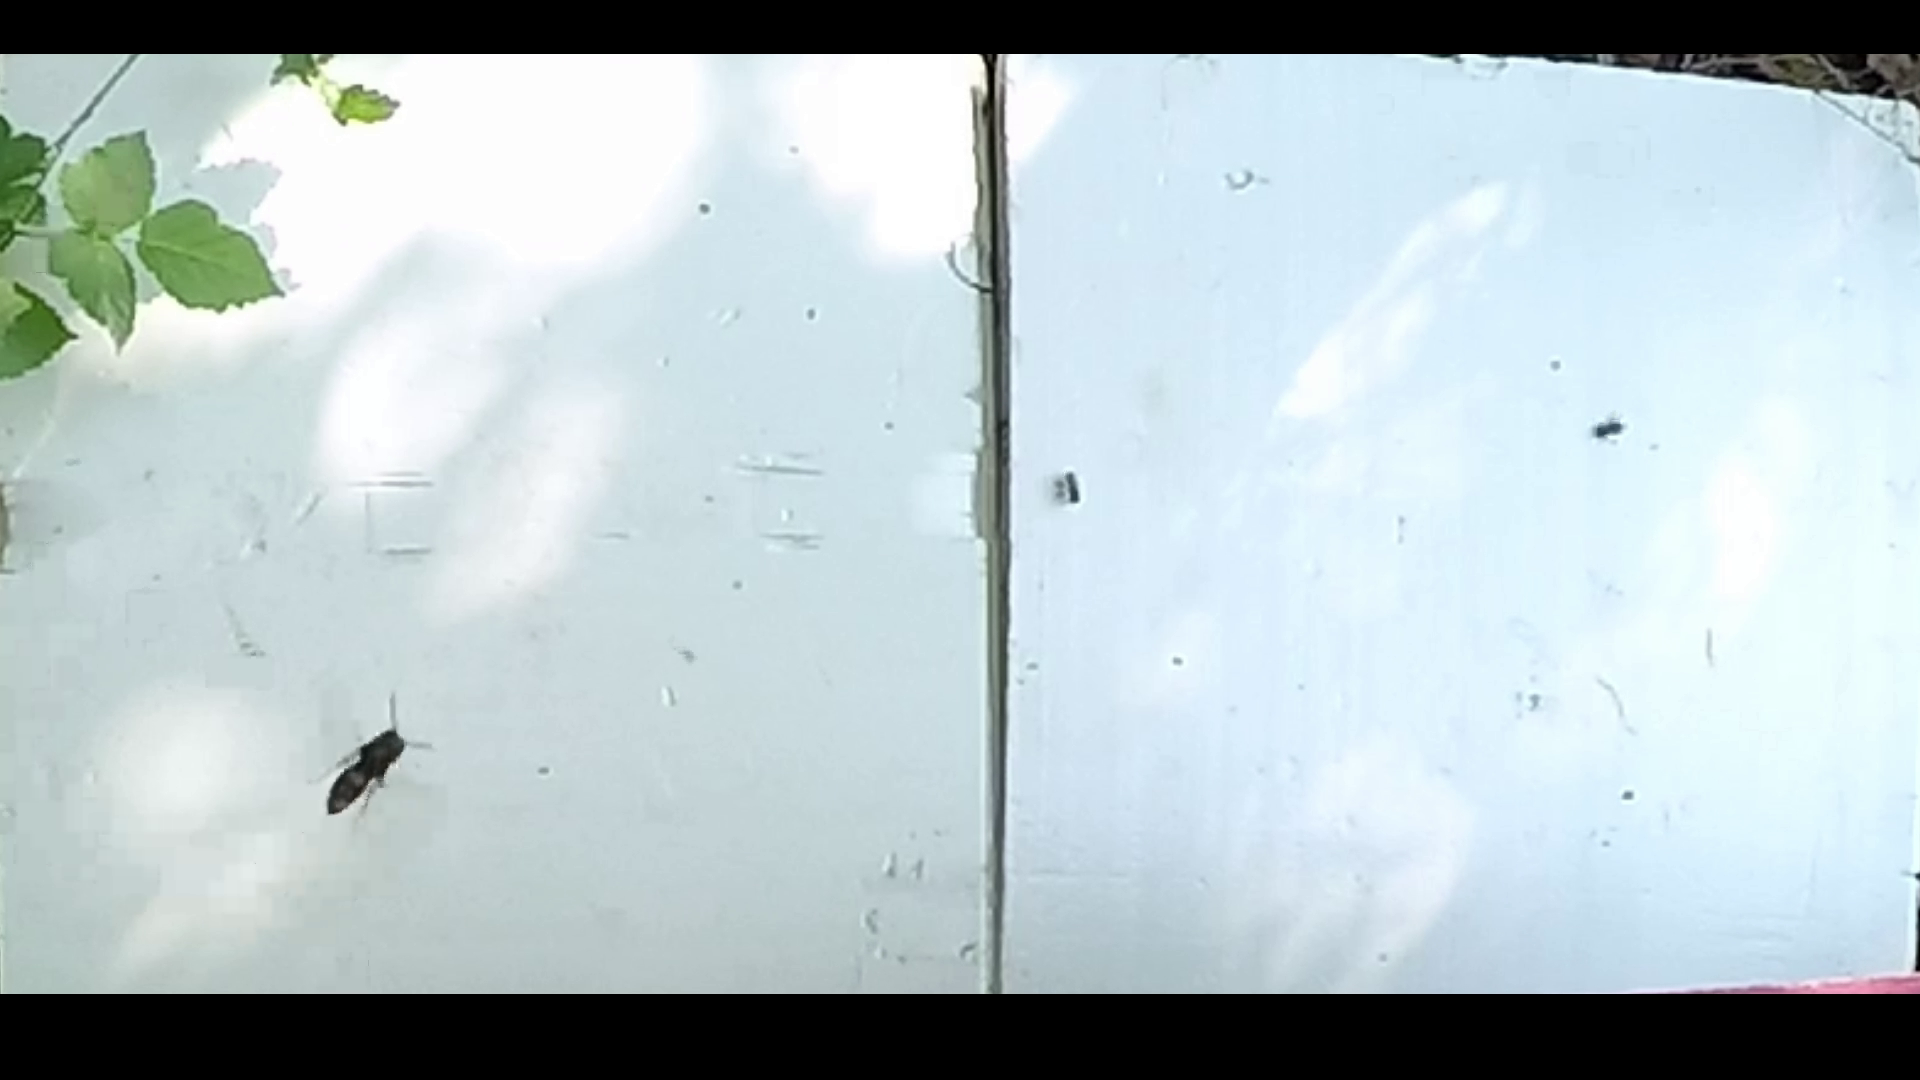Asian_hornets: (297, 687, 436, 841)
